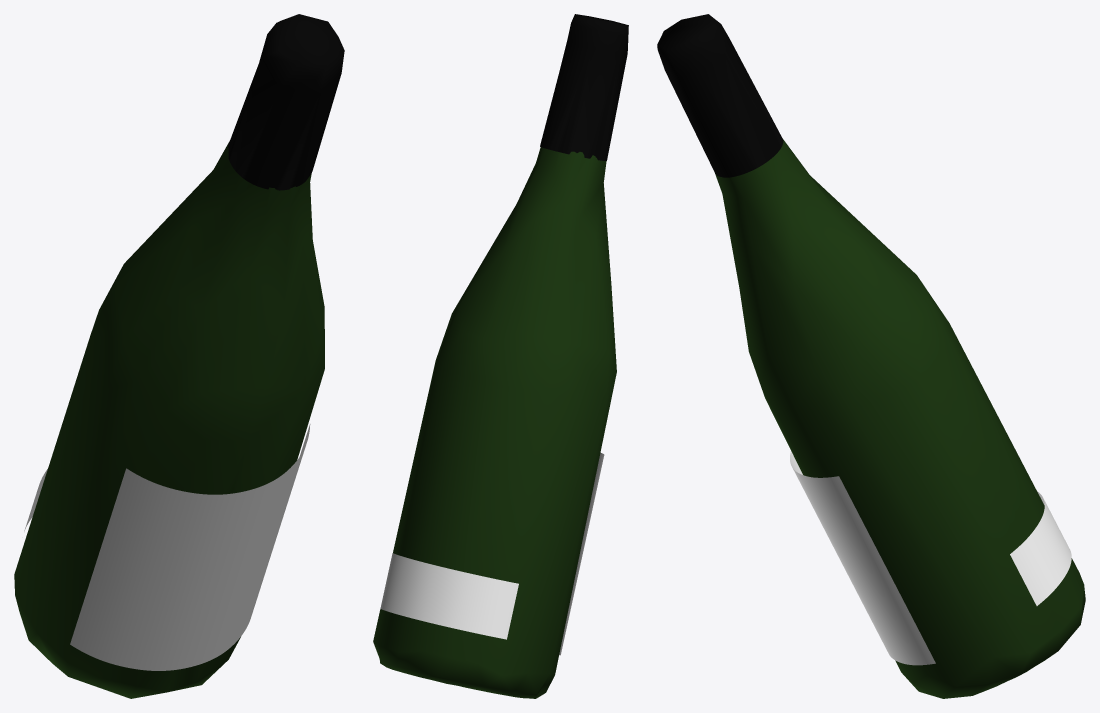
Rendered from TheMuraka_Int_Bottle.fbx.
3 renders of one model, left to right at view 1: azimuth 30°, elevation 25°; view 2: azimuth 150°, elevation 25°; view 3: azimuth 270°, elevation 25°, orthographic. The views are drawn at different scales.
Parts seen in each view (by area): view 1: winebottle; view 2: winebottle; view 3: winebottle.
Boxes of the visible parts, left/top/right/bottom form: winebottle: left=14, top=14, right=344, bottom=698; winebottle: left=373, top=14, right=628, bottom=698; winebottle: left=657, top=14, right=1085, bottom=698.
Size of the model in its own units: 8.07 by 28.77 by 16.88.
